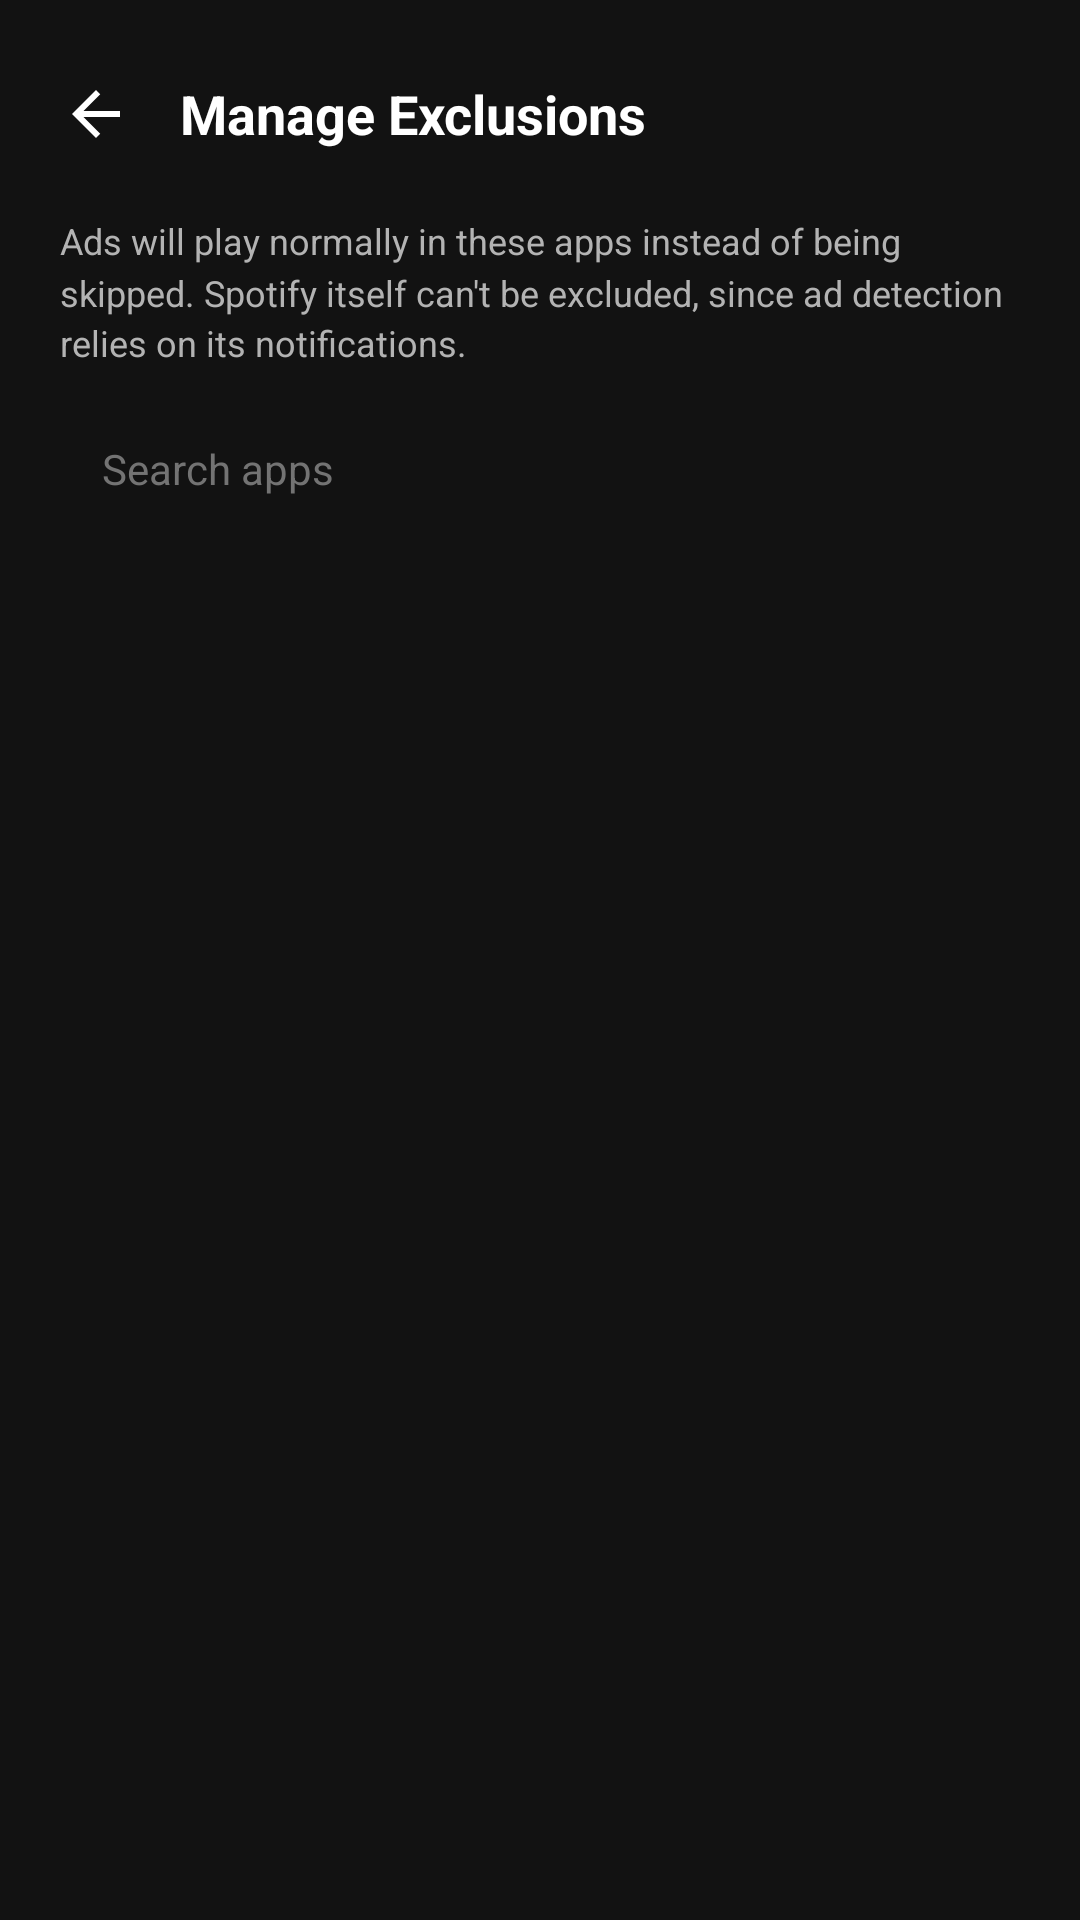

Where to tap for icons on this 1080x1920 app screen, as point (x, y):
Back: point (96, 114)
